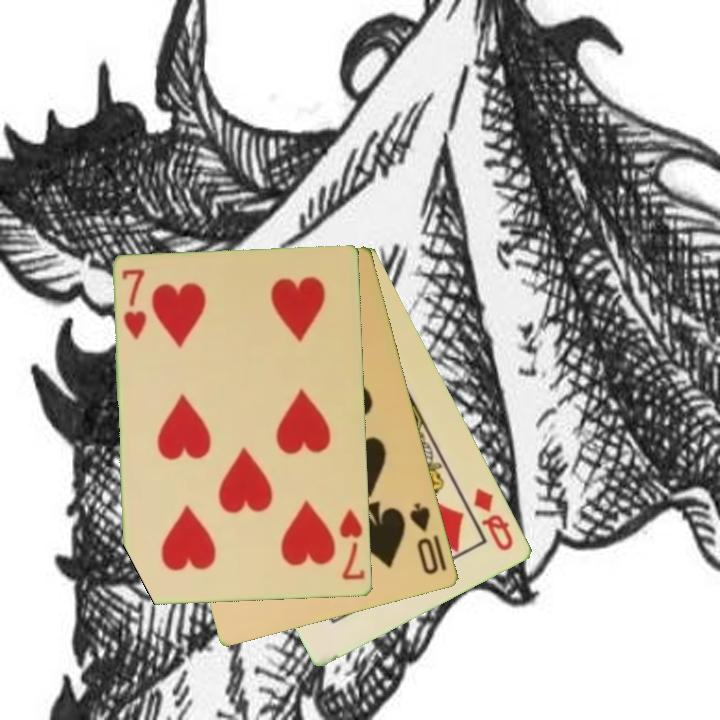10s: (406, 499, 442, 578)
7h: (336, 505, 369, 584), (119, 266, 150, 343)
Qd: (470, 484, 517, 555)
